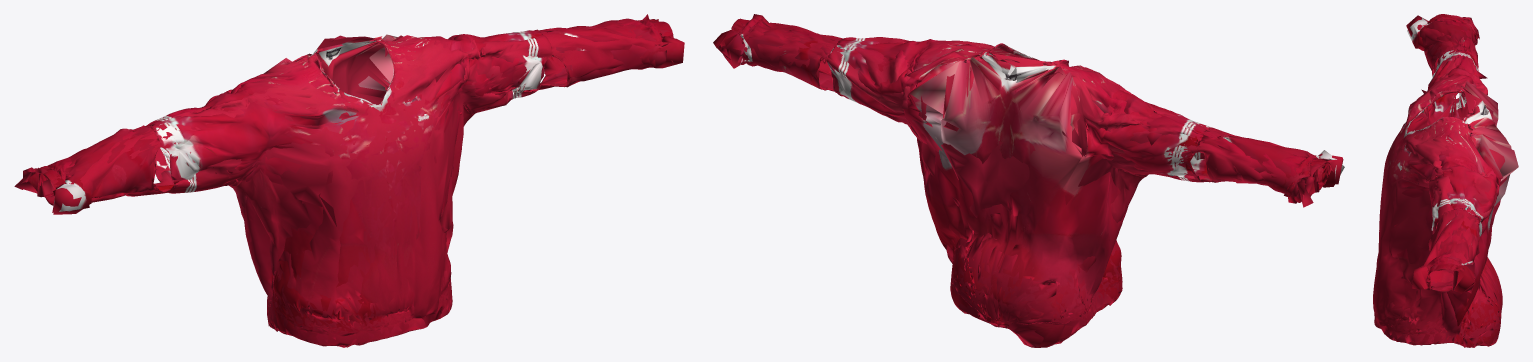
The model's file is 33f2af60-8026-41bf-a188-457af71bbc95.glb.
The picture shows the model from 3 angles, left to right: view 1: azimuth 30°, elevation 25°; view 2: azimuth 150°, elevation 25°; view 3: azimuth 270°, elevation 25°; orthographic projection. The views are drawn at different scales.
Parts seen in each view (by area): view 1: Mesh_0.001; view 2: Mesh_0.001; view 3: Mesh_0.001.
Boxes of the visible parts, box(x1,y1,x2,y2) form: Mesh_0.001: box(14, 14, 684, 347); Mesh_0.001: box(713, 14, 1344, 347); Mesh_0.001: box(1373, 14, 1518, 347).
Size of the model in its own units: 1.77 by 0.7789 by 0.416.
Materials: 1 (1 with a texture image).
